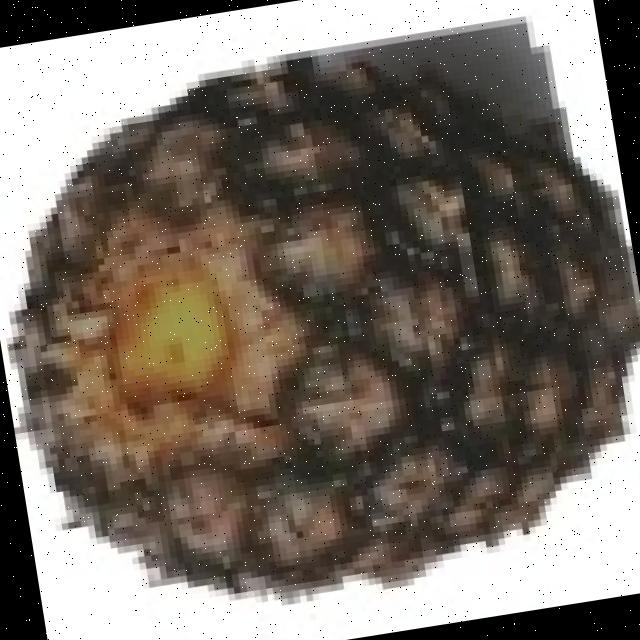pineapple: (8, 43, 629, 606)
